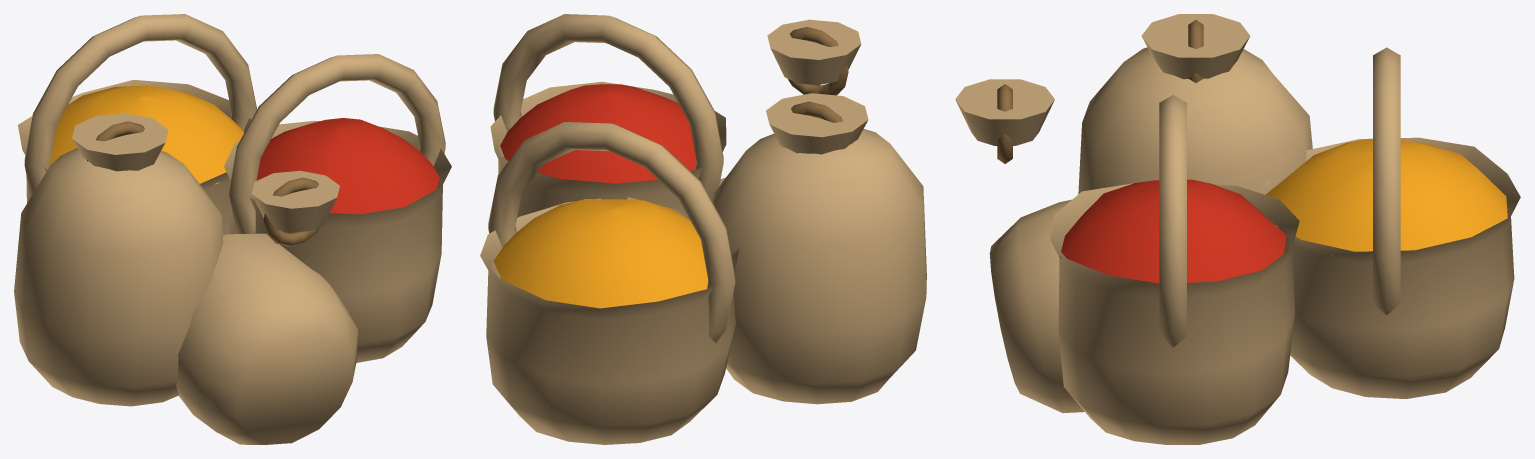
File: mk_sacks.glb
The picture shows the model from 3 angles, left to right: view 1: azimuth 30°, elevation 25°; view 2: azimuth 150°, elevation 25°; view 3: azimuth 270°, elevation 25°; orthographic projection. The views are drawn at different scales.
Parts seen in each view (by area): view 1: mk_sacks_body; view 2: mk_sacks_body; view 3: mk_sacks_body.
Part boxes in pixels (bbox=[...]): mk_sacks_body: bbox=[14, 14, 451, 444]; mk_sacks_body: bbox=[480, 14, 926, 444]; mk_sacks_body: bbox=[955, 14, 1520, 444].
Bounding box in the file's own units: 1.14 × 0.8697 × 1.25.
